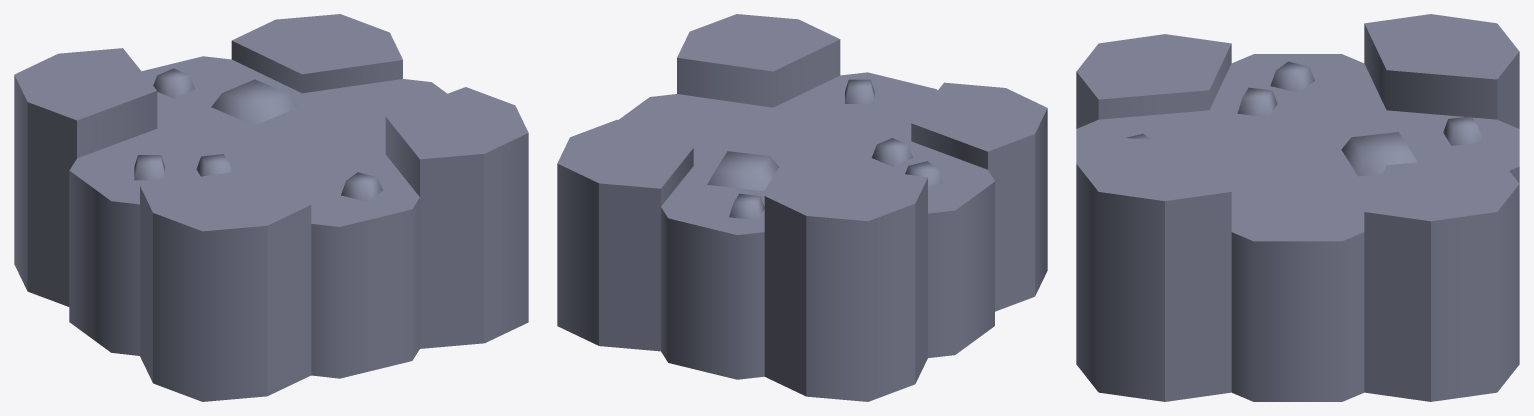
File: rocks.glb
The picture shows the model from 3 angles, left to right: view 1: azimuth 30°, elevation 25°; view 2: azimuth 150°, elevation 25°; view 3: azimuth 270°, elevation 25°; orthographic projection. The views are drawn at different scales.
Visible parts, largest first — view 1: rocks; view 2: rocks; view 3: rocks.
Part boxes in pixels (x1,y1,x2,y2): rocks: (14,14,528,401); rocks: (557,14,1047,401); rocks: (1076,14,1519,401).
Bounding box in the file's own units: 1 × 0.5 × 1.
